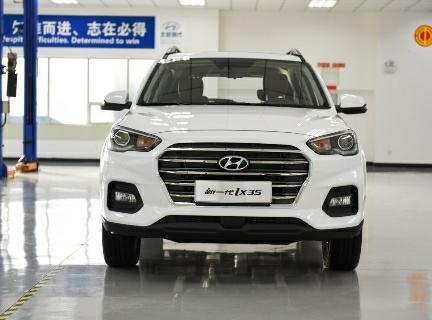现代-北京现代-ix35: (91, 41, 378, 280)
